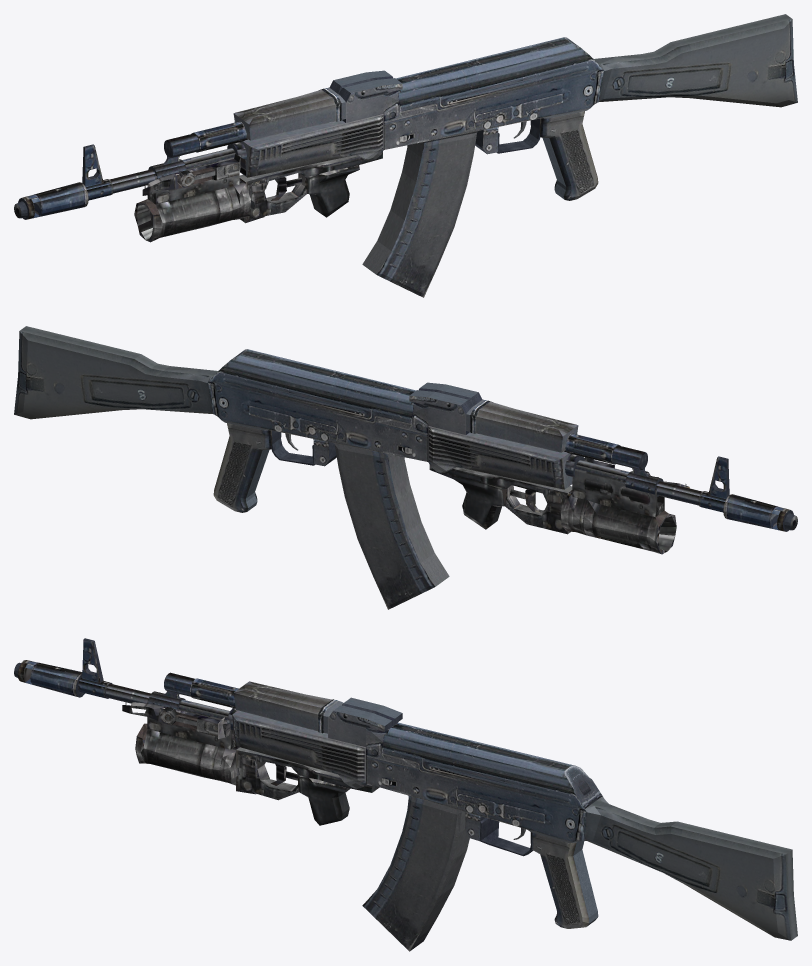
The picture shows the model from 3 angles, top to bottom: view 1: azimuth 30°, elevation 25°; view 2: azimuth 150°, elevation 25°; view 3: azimuth 330°, elevation 25°; orthographic projection.
Parts seen in each view (by area): view 1: Cube, W_Gp25; view 2: Cube, W_Gp25; view 3: Cube, W_Gp25.
Part boxes in pixels (<box>): Cube: <box>14,14,797,297</box>; W_Gp25: <box>134,152,382,242</box>; Cube: <box>14,326,797,609</box>; W_Gp25: <box>429,457,689,554</box>; Cube: <box>14,638,797,951</box>; W_Gp25: <box>122,701,379,825</box>.
Bounding box in the file's own units: 15.02 × 4.19 × 0.8294.
